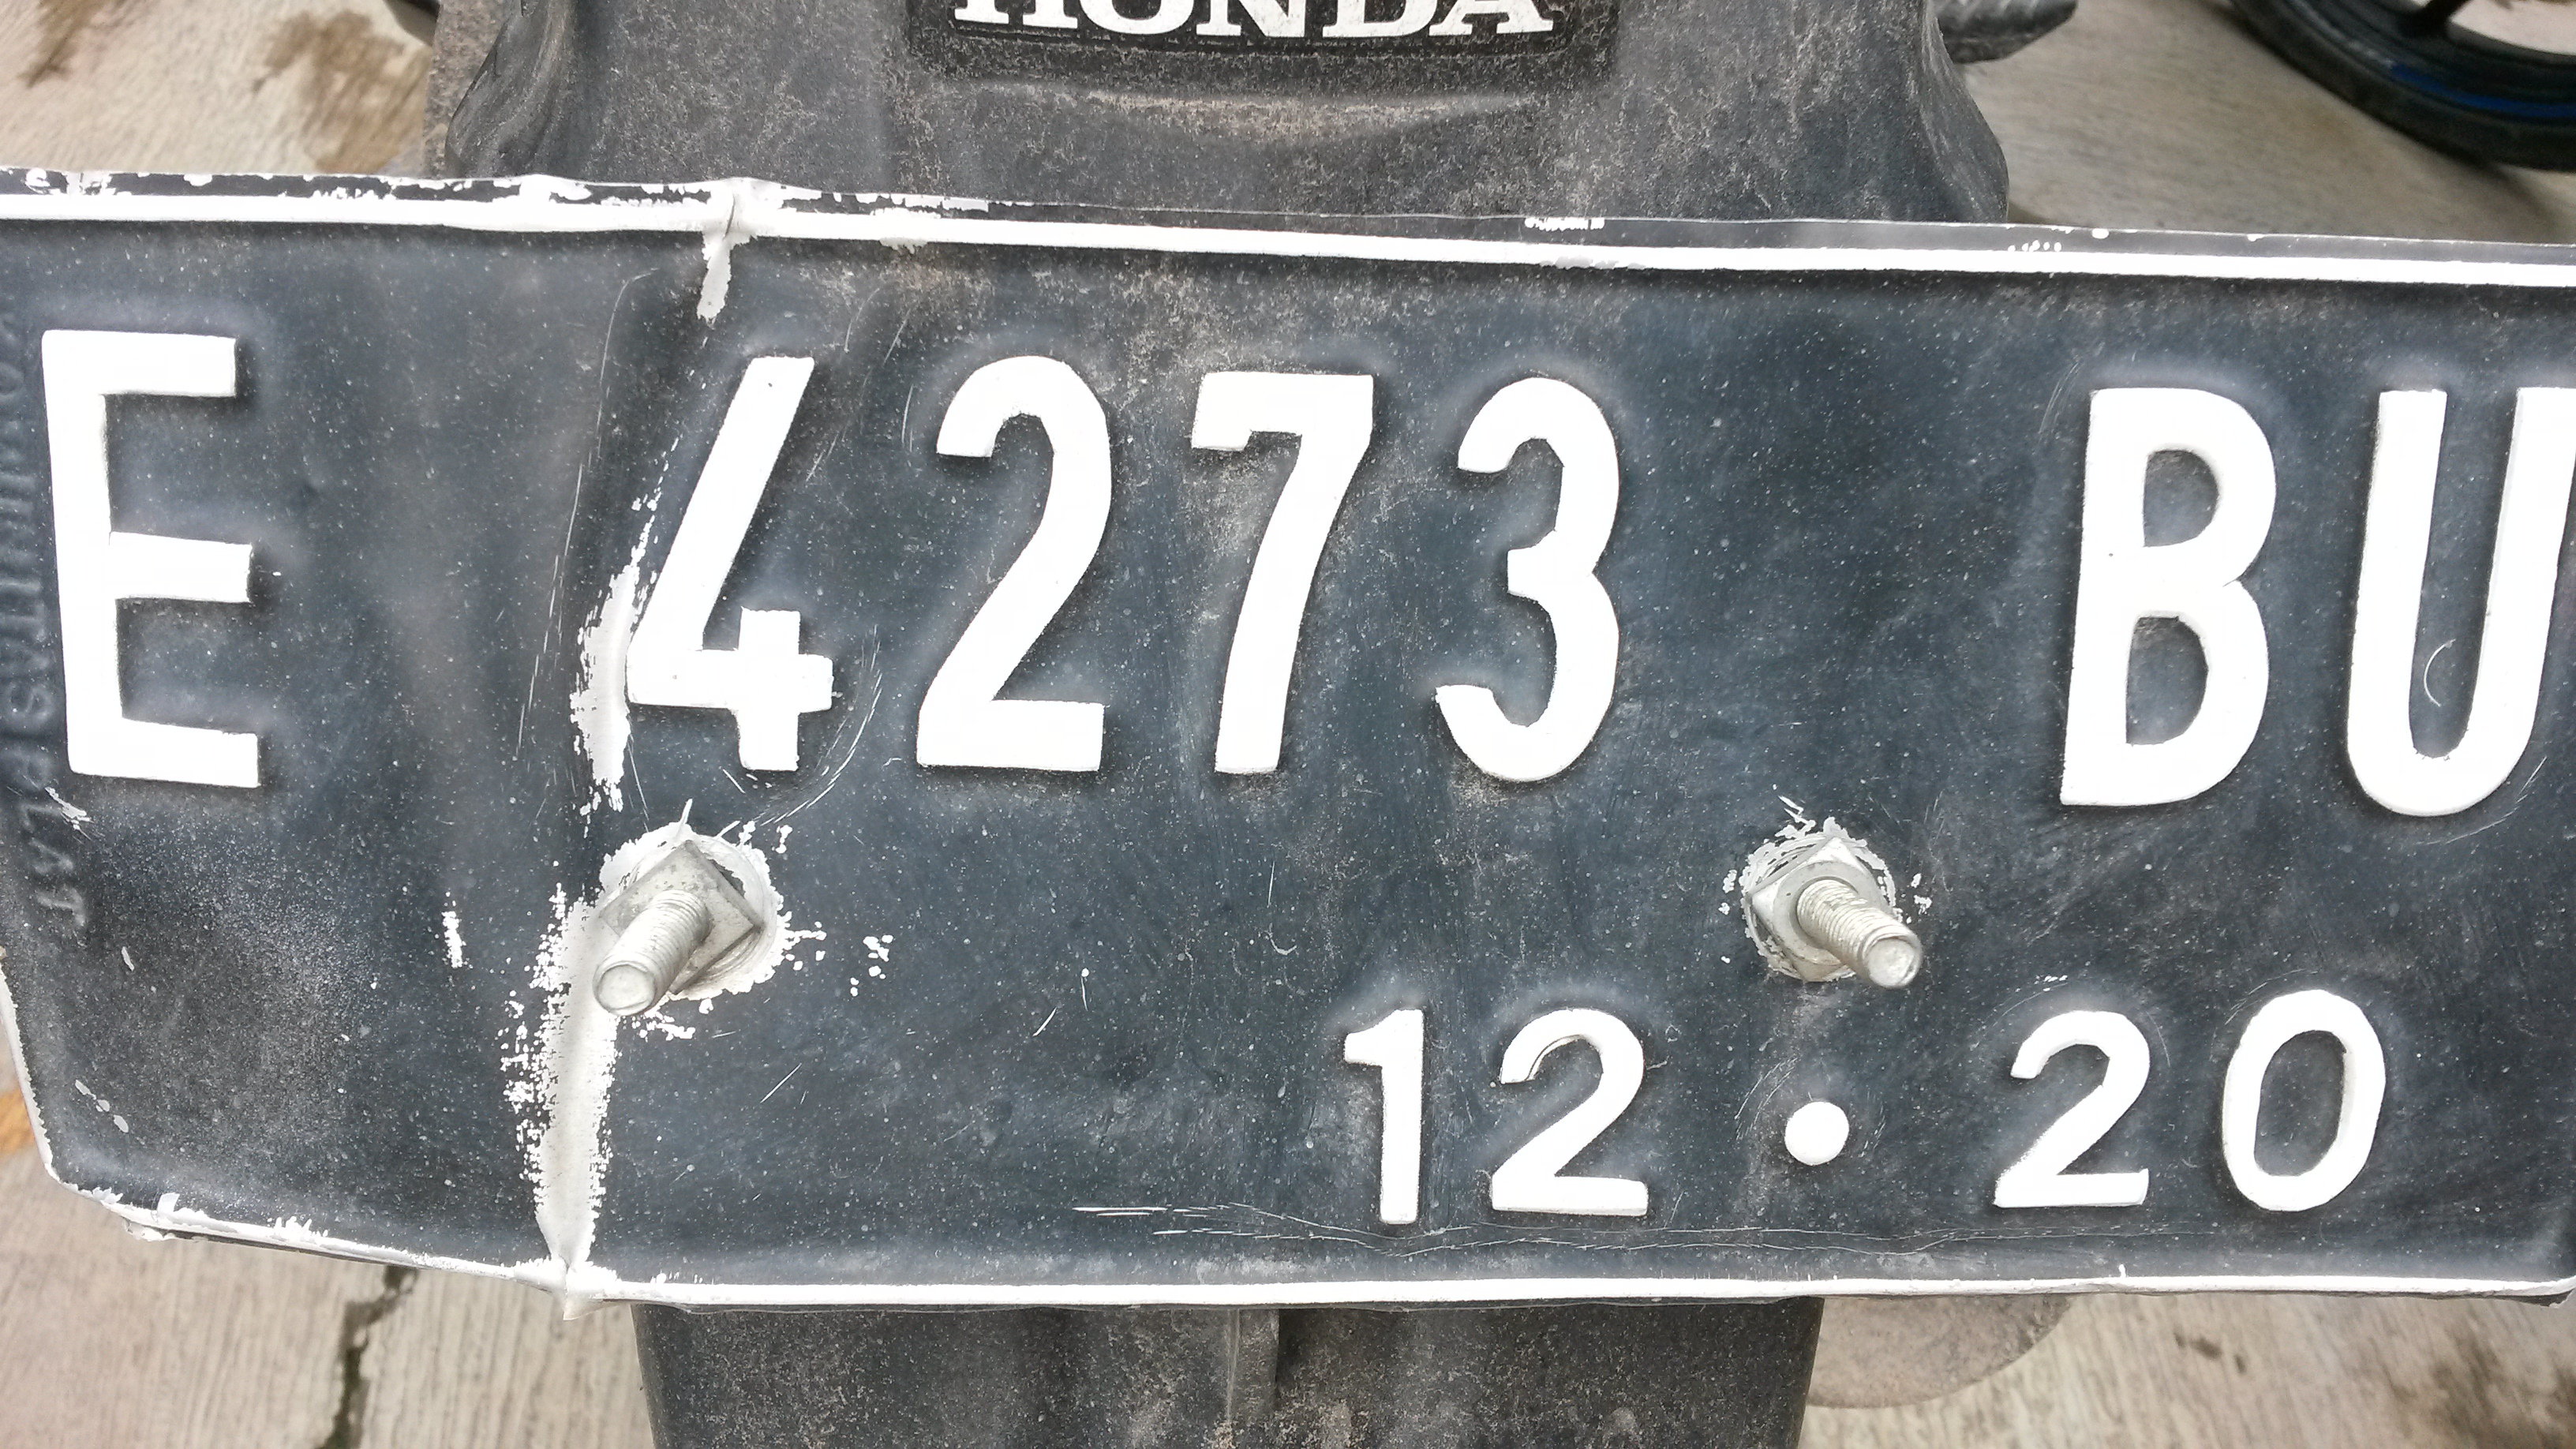plate: (2, 172, 2576, 1316)
